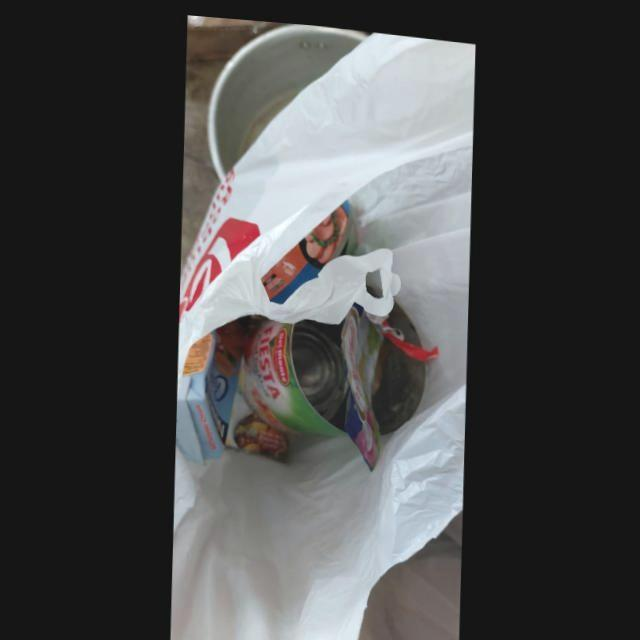aluminum: (240, 296, 438, 464), (260, 194, 357, 300)
plastic_sachet: (340, 296, 385, 465)
